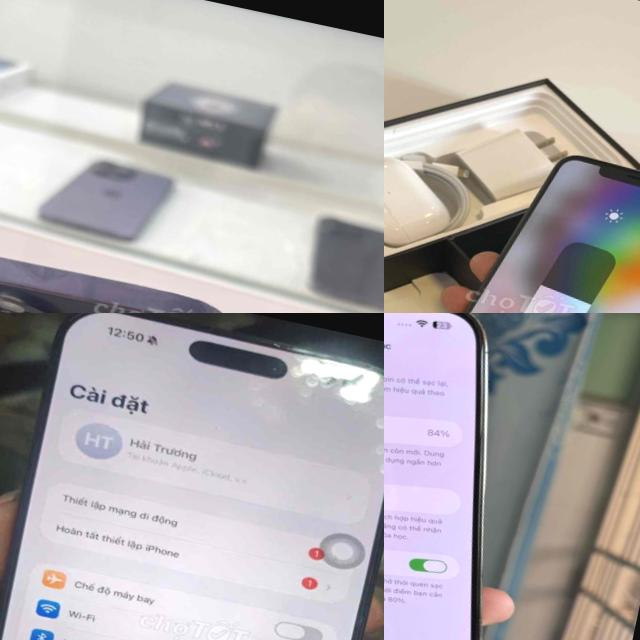gen_11: (402, 130, 640, 313)
gen_14: (384, 313, 569, 640), (0, 215, 253, 313)
gen_16: (0, 313, 384, 640)
